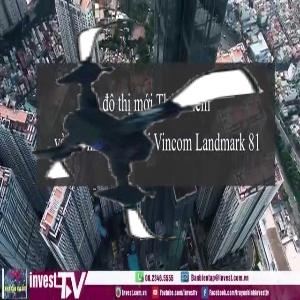drone: (25, 8, 268, 251)
